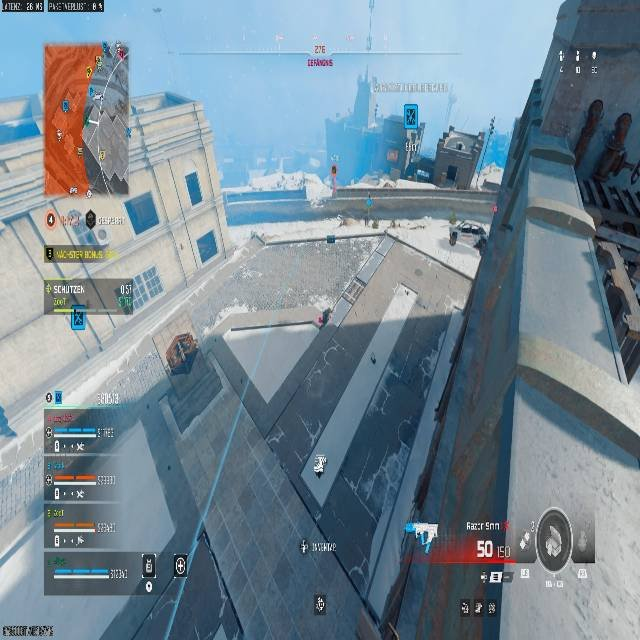player: (327, 165, 338, 194)
